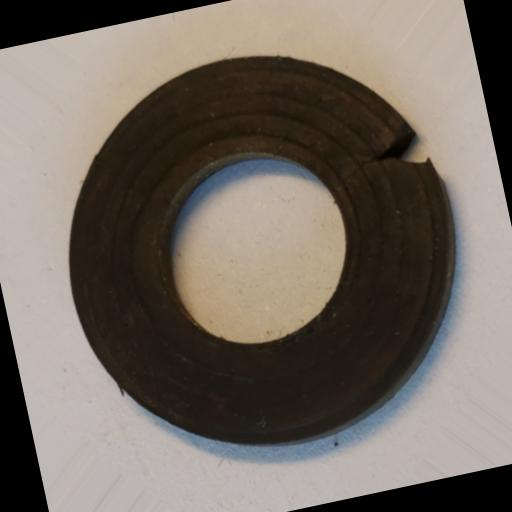defect: (354, 122, 432, 178)
